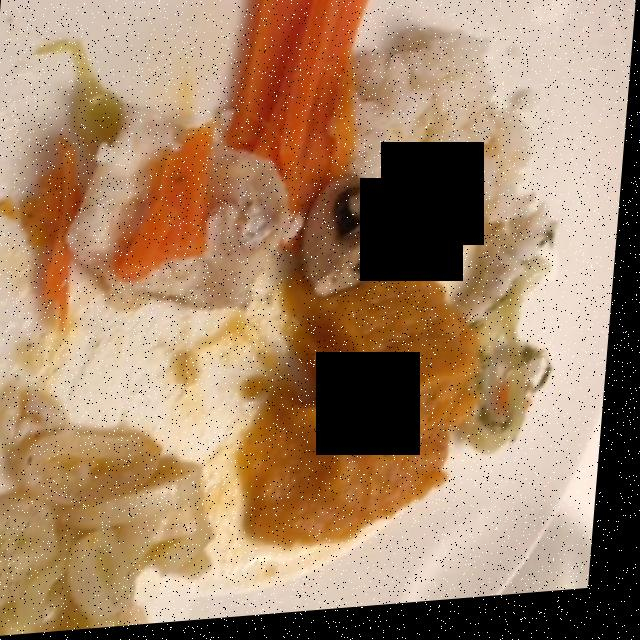carrot-raw: (140, 0, 367, 281)
leek: (0, 387, 212, 635)
mushroom: (299, 176, 411, 300)
rice: (359, 0, 567, 285)
sweet-potato: (253, 266, 490, 561)
